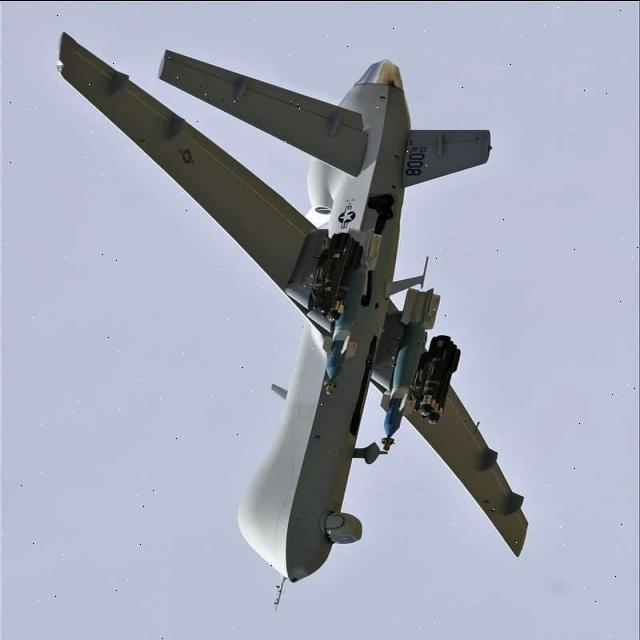MQ9: (26, 26, 629, 640)
